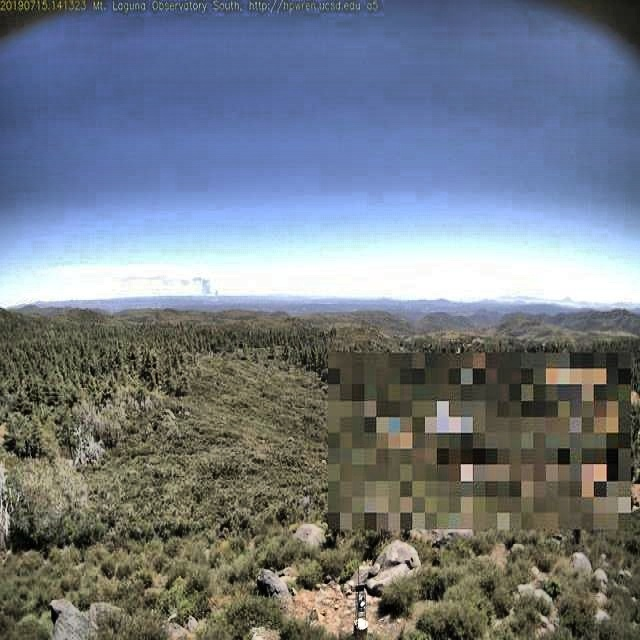smoke: (182, 267, 217, 300)
